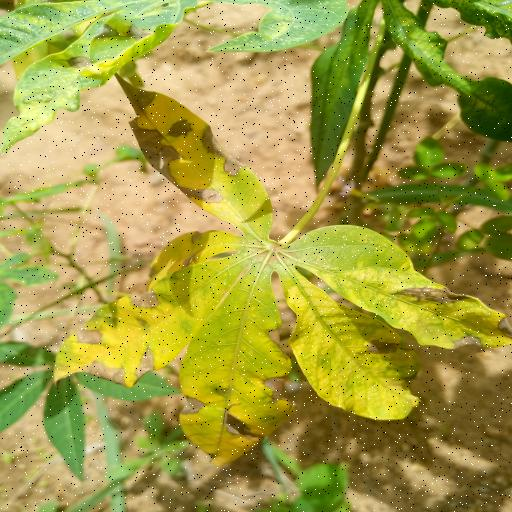Cassava_Brown_Leaf_Spot: (46, 68, 512, 454)
